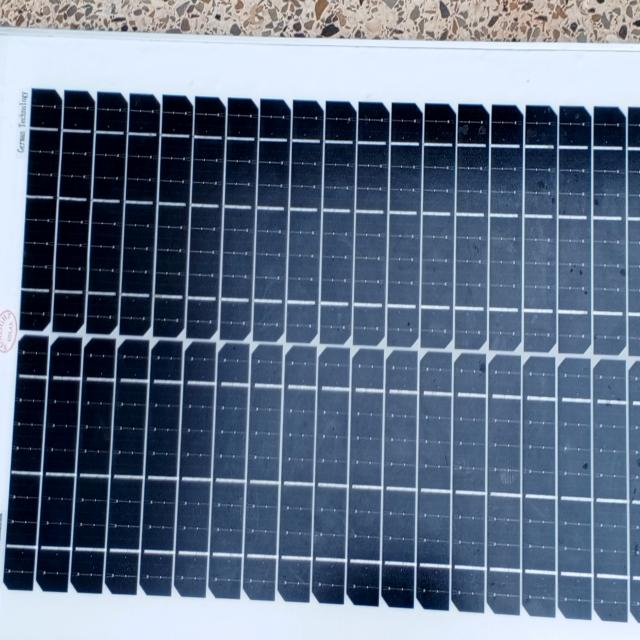Clean: (9, 50, 640, 624)
